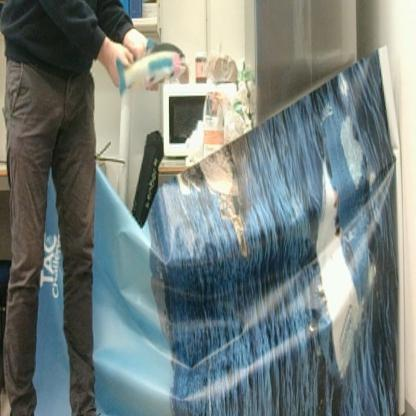rubberfish: (112, 36, 186, 94)
